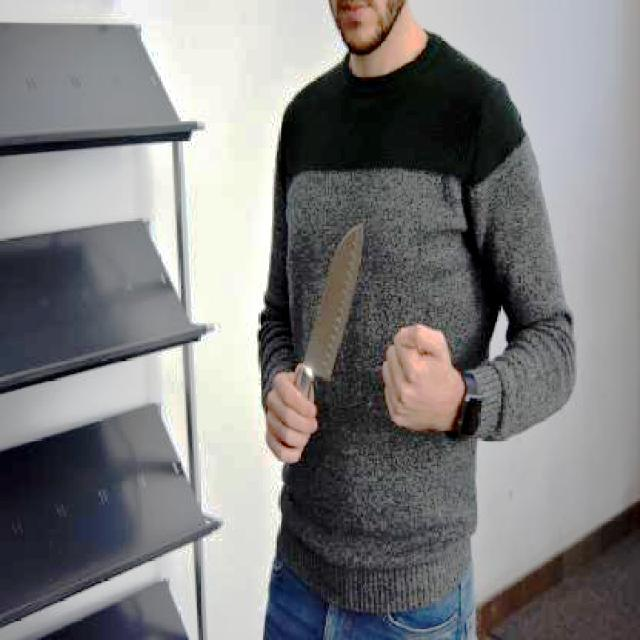Knife: (292, 217, 376, 381)
